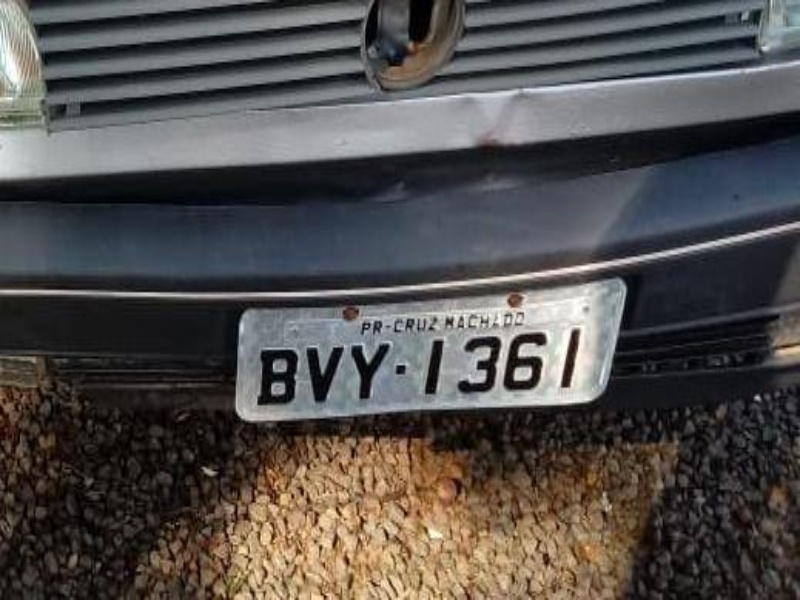placa: (225, 283, 628, 429)
